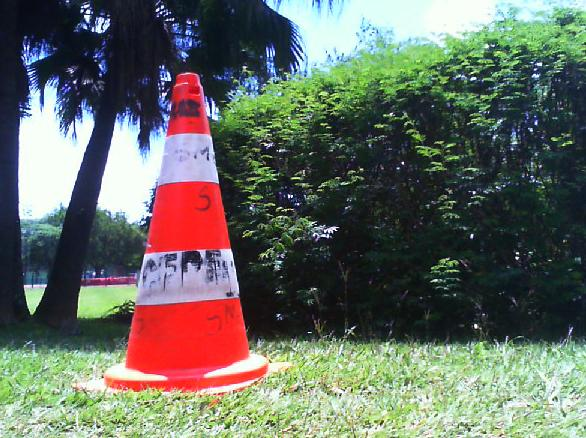0 cone: (74, 74, 293, 405)
